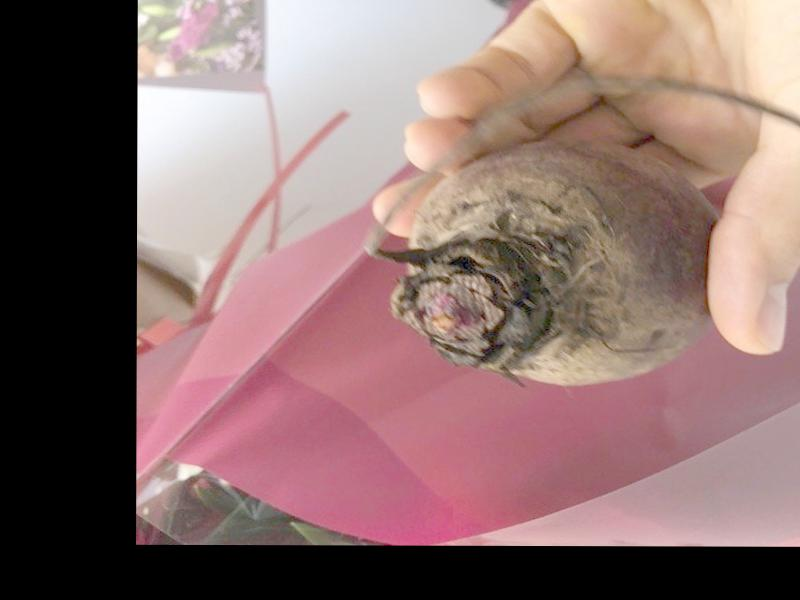Beet: (361, 78, 800, 386)
